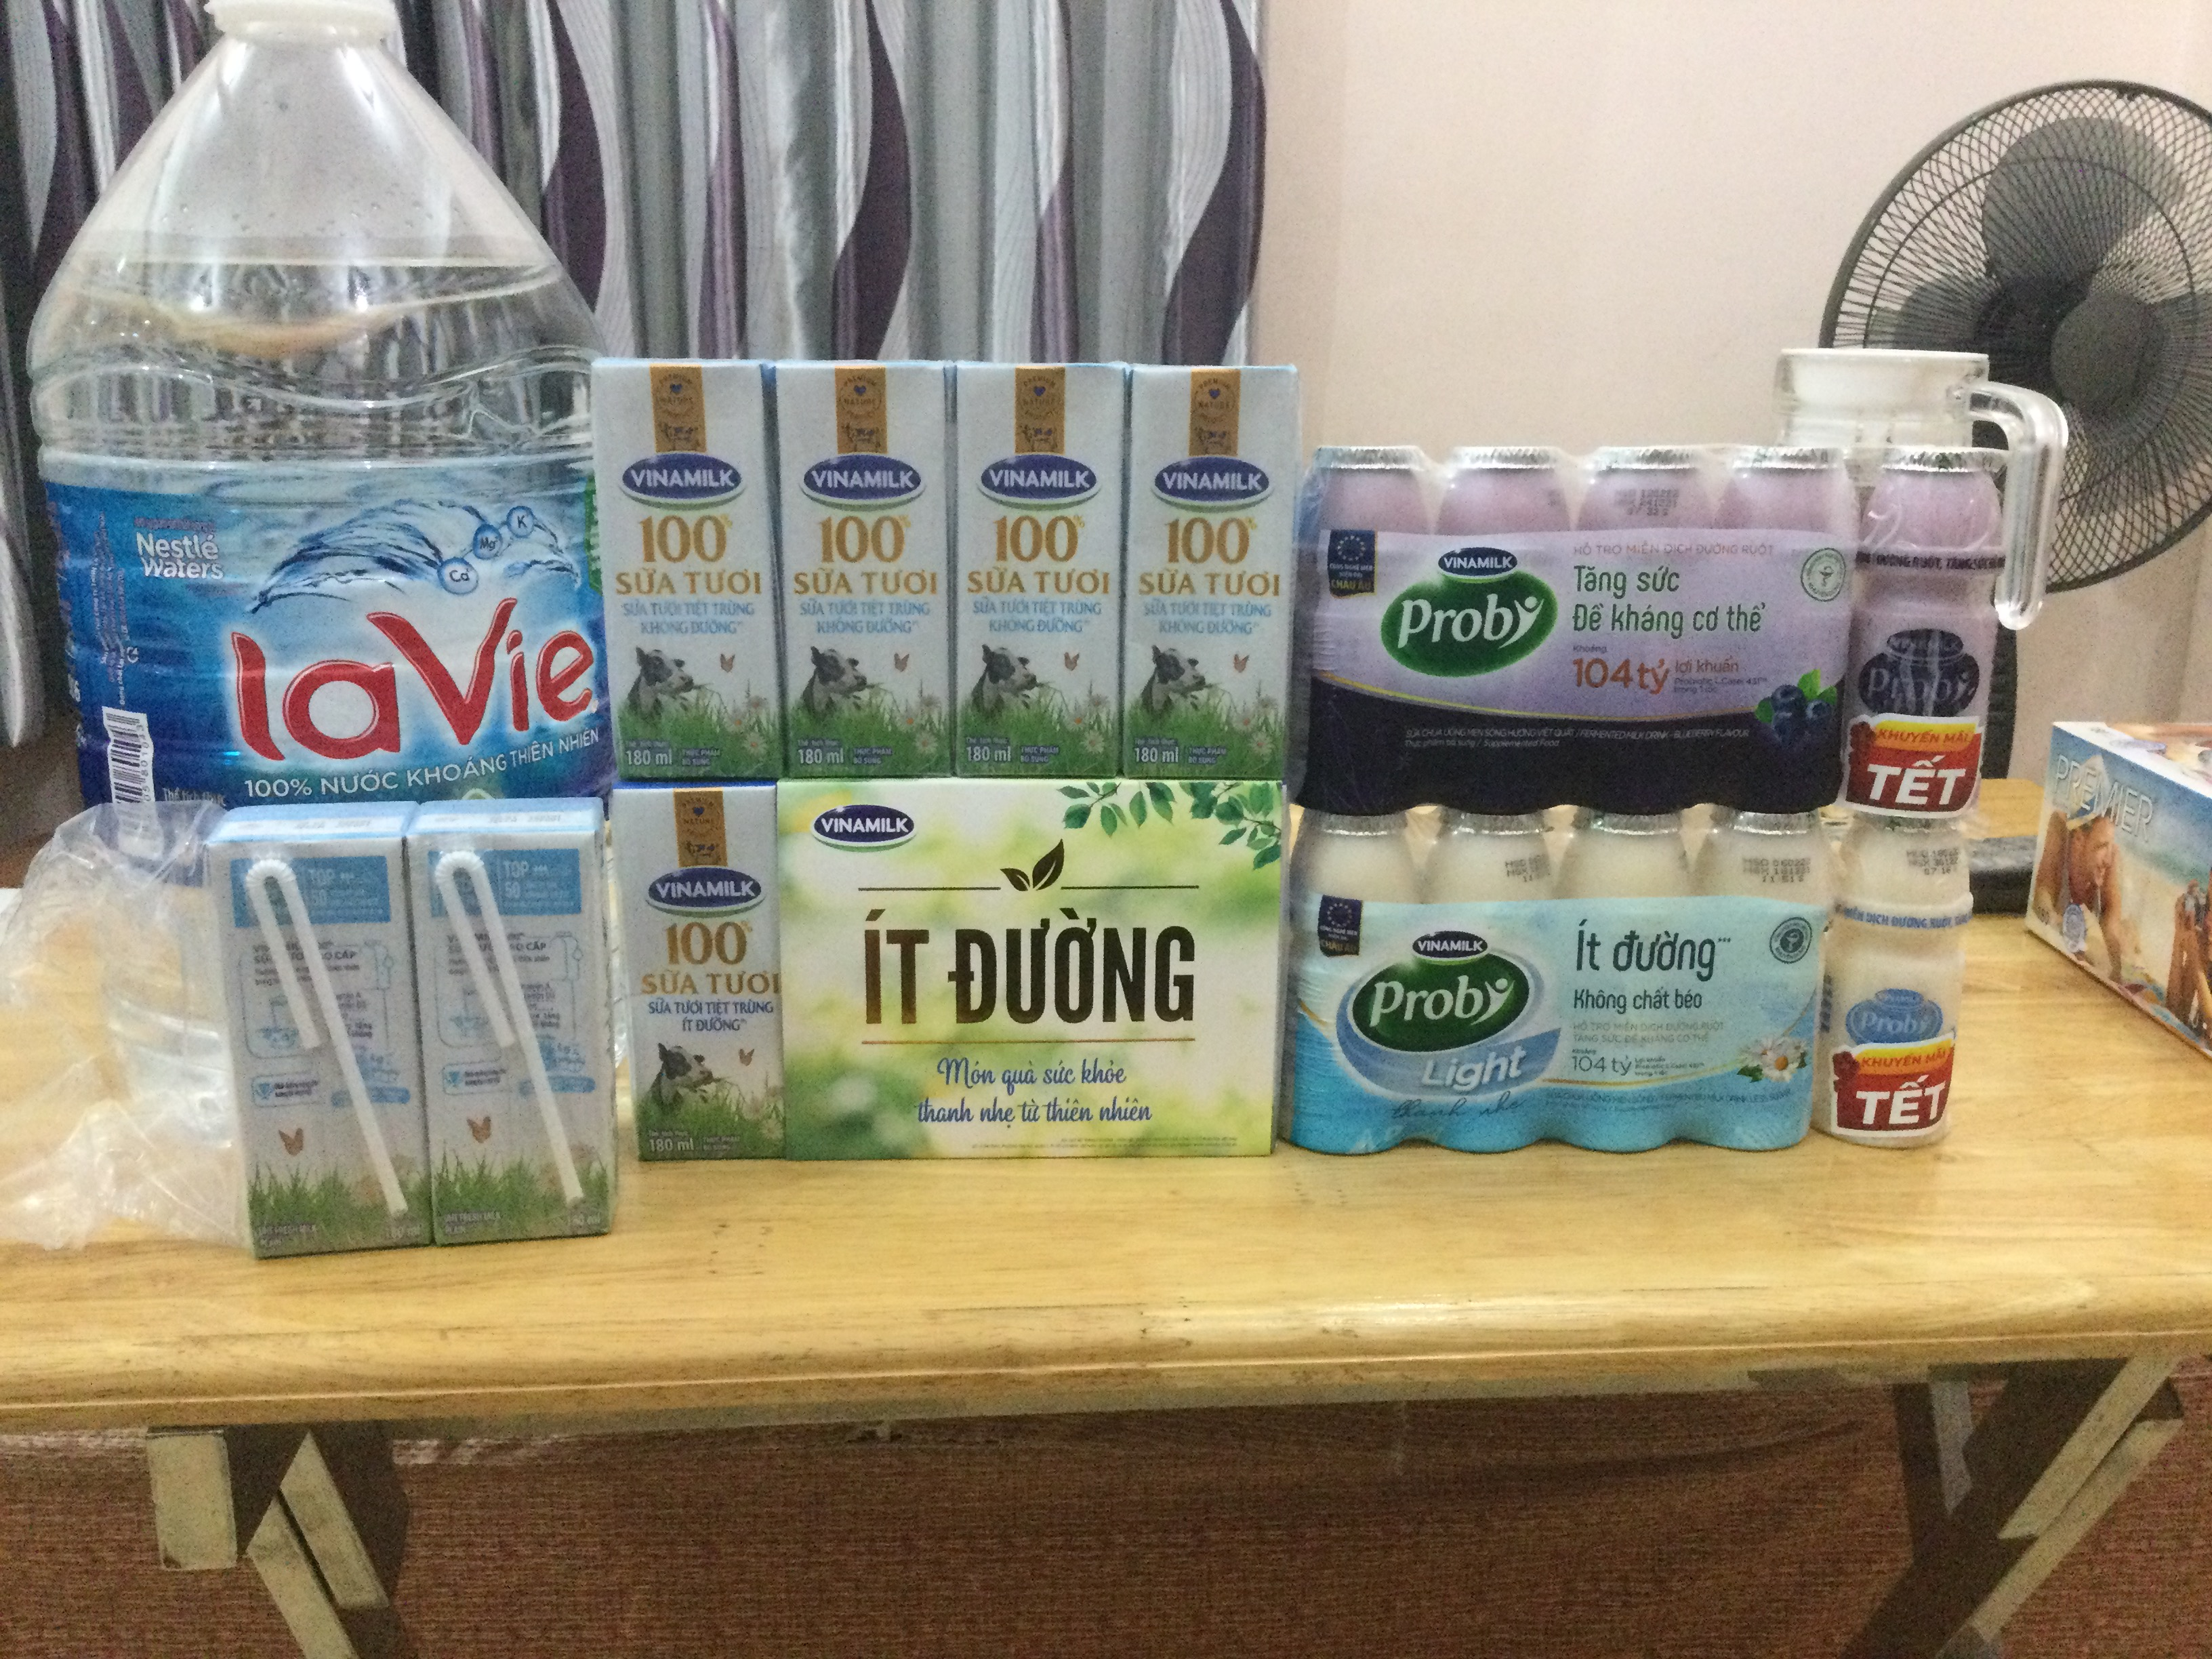lavie: (226, 599, 611, 763)
probi: (1395, 593, 1547, 652), (1367, 974, 1517, 1033), (1865, 662, 1970, 711), (1857, 1007, 1932, 1042)
vinamilk: (799, 793, 918, 864), (798, 450, 927, 512), (975, 453, 1101, 512), (617, 453, 749, 509), (1153, 453, 1277, 512), (634, 868, 765, 913), (1435, 544, 1522, 582), (1406, 929, 1491, 965), (1883, 624, 1963, 657), (1874, 985, 1928, 1006)
